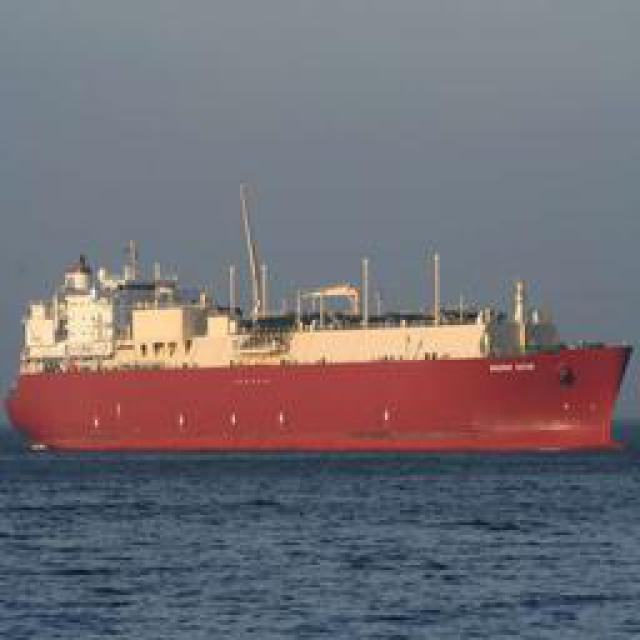Ship: (10, 191, 633, 451)
